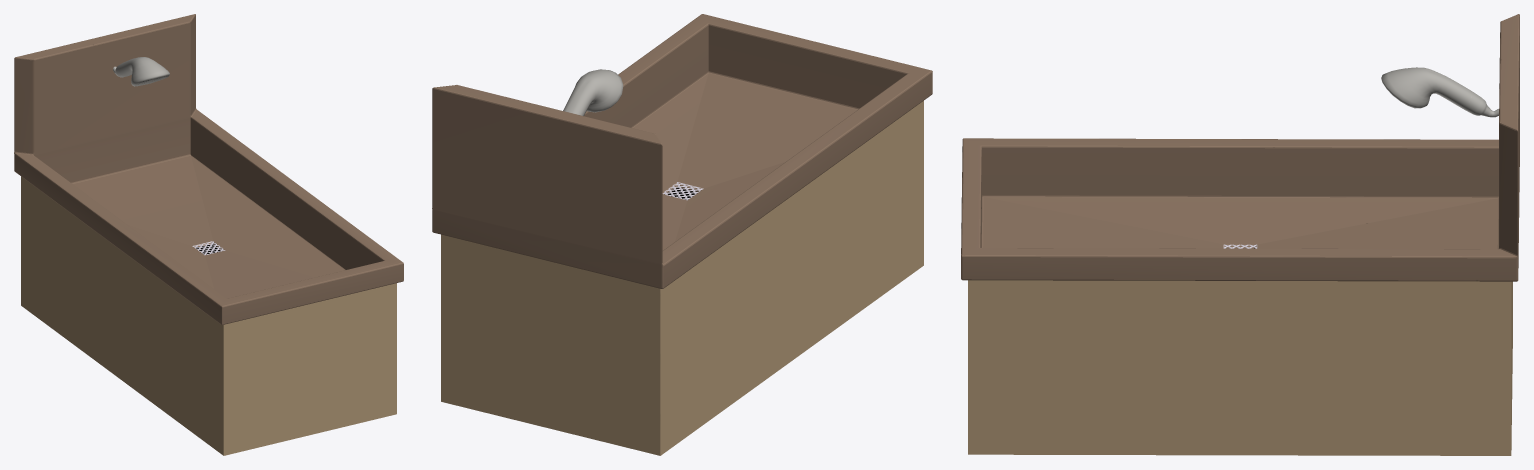
File: retopo_BathStation2.fbx
The picture shows the model from 3 angles, left to right: view 1: azimuth 30°, elevation 25°; view 2: azimuth 150°, elevation 25°; view 3: azimuth 270°, elevation 25°; orthographic projection. The views are drawn at different scales.
Visible parts, largest first — view 1: Bathing_Station2, Shower; view 2: Bathing_Station2, Shower; view 3: Bathing_Station2, Shower.
Boxes of the visible parts, x1=… form: Bathing_Station2: x1=14, y1=14, x2=403, y2=455; Shower: x1=113, y1=57, x2=169, y2=86; Bathing_Station2: x1=432, y1=14, x2=932, y2=455; Shower: x1=563, y1=69, x2=623, y2=115; Bathing_Station2: x1=961, y1=14, x2=1519, y2=455; Shower: x1=1381, y1=67, x2=1498, y2=117.
Bounding box in the file's own units: 166 × 216 × 330.
2 materials, 2 textured.
